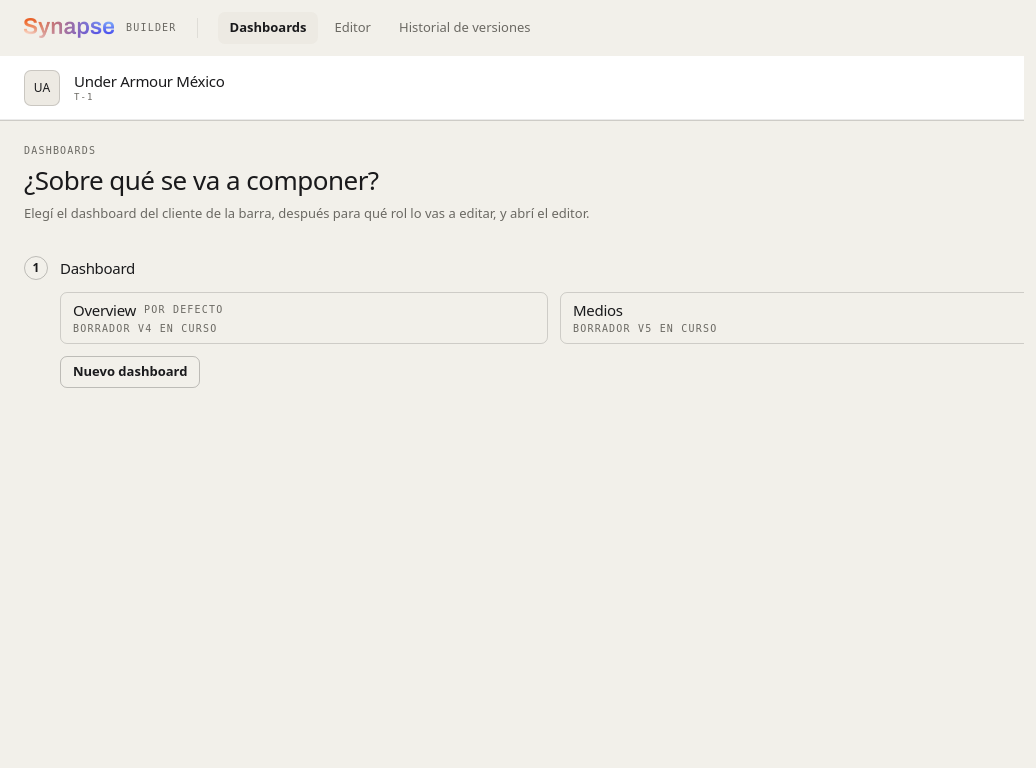
Scenario: §7.2 · el editor pinta las pestañas en orden y editables › las pestañas van como pestañas, ordenadas por `orden`
Click the button "Overview Por defecto Borrador v4 en curso" at (105, 310), box [60,292,548,344]
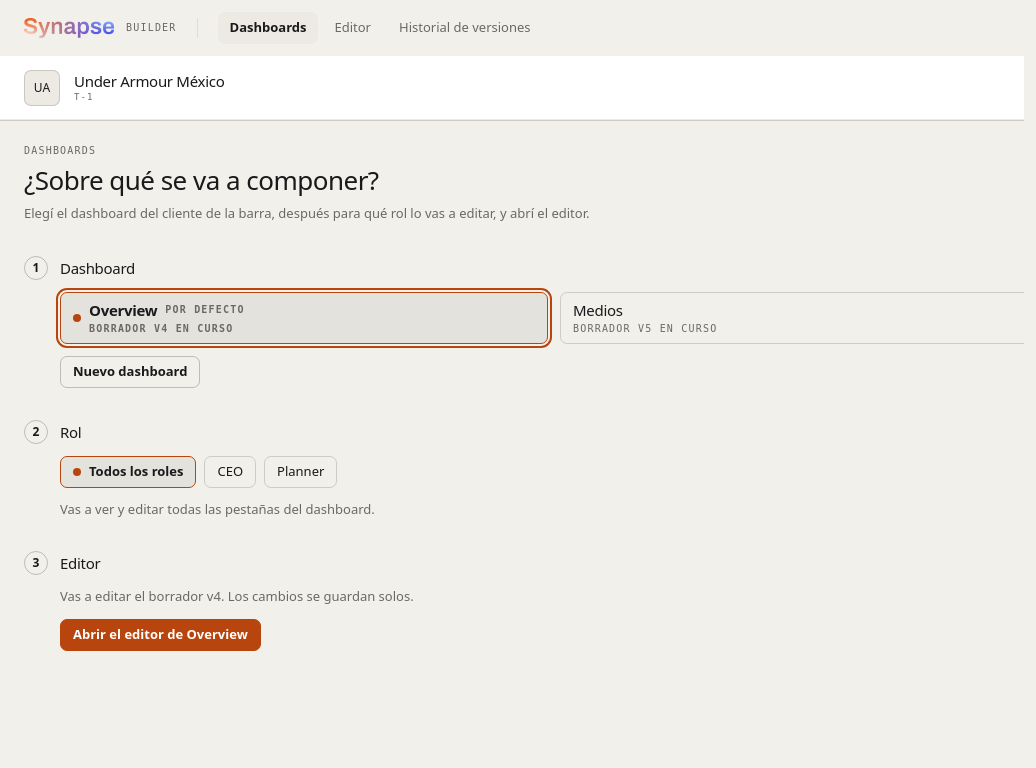
Click the button "Abrir el editor de Overview" at (160, 635), box [60,619,261,651]
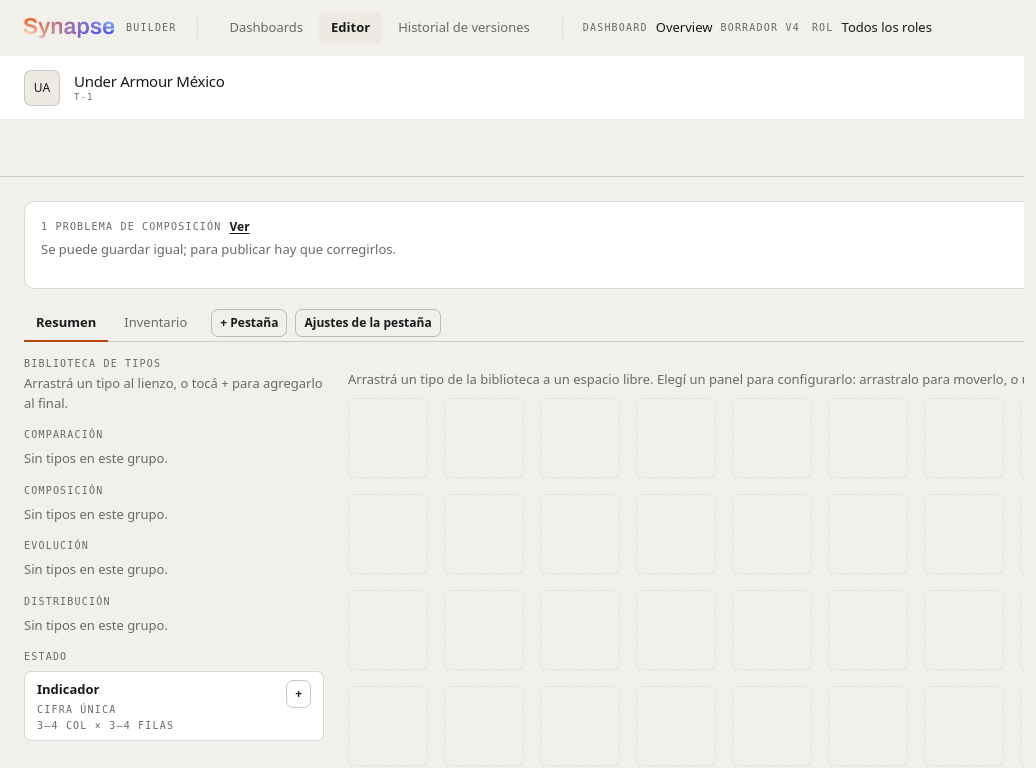
Result: the tab "Resumen" is shown at [24,304,108,342]
